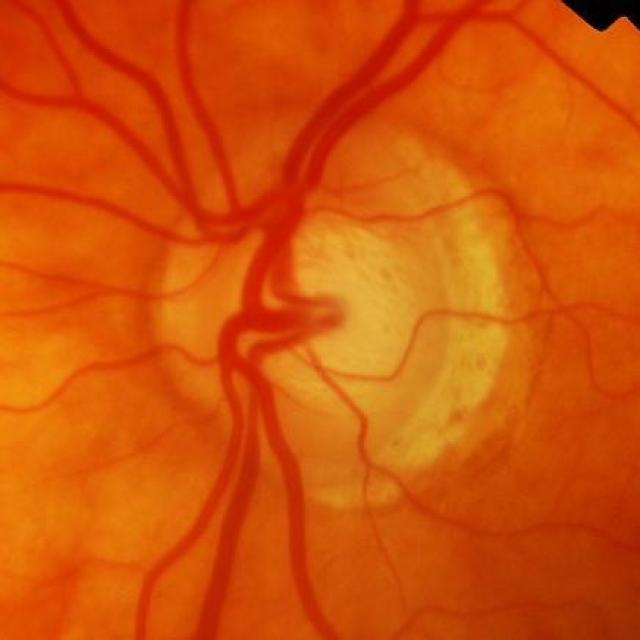OC: (227, 203, 413, 395)
OD: (154, 132, 515, 510)
